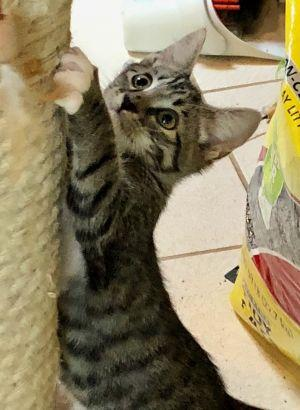bengal: (95, 24, 265, 194)
